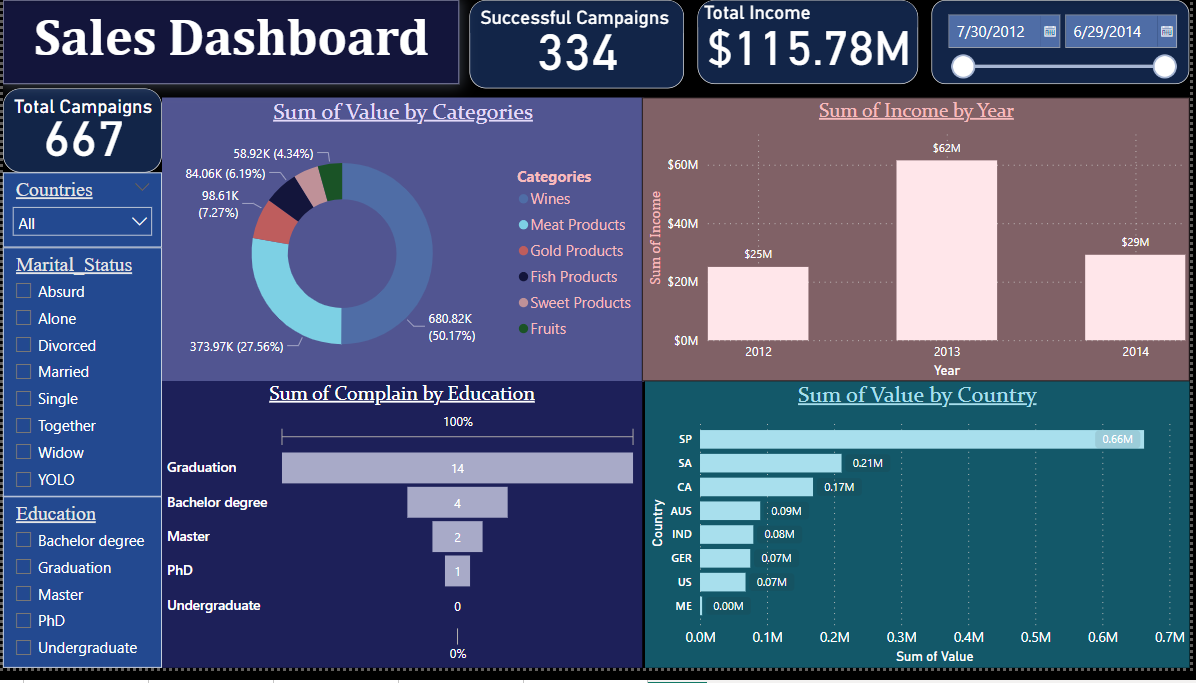

The dashboard page shown, as its layout file describes it:
{"tool":"powerbi","page":{"name":"Page 1","canvas":[1280,720],"ordinal":0},"visuals":[{"type":"barChart","fields":{"Y":["Append1.Value"],"Category":["marketing_customer_data_uncleaned.Country"]},"box":[692.5,411,587.3,309],"z":0},{"type":"slicer","fields":{"Values":["marketing_customer_data_uncleaned.CountryNames.Country"]},"box":[0,186.1,171.5,80.9],"z":1000},{"type":"slicer","fields":{"Values":["marketing_customer_data_uncleaned.Education"]},"box":[0,535.6,171.5,184.4],"z":2000},{"type":"slicer","fields":{"Values":["marketing_customer_data_uncleaned.Marital_Status"]},"box":[0,267,171.5,268.6],"z":3000},{"type":"donutChart","title":"Sum  of  Value  by  Categories","fields":{"Category":["Append1.Attribute"],"Y":["Append1.Value"]},"box":[171.7,105,520,306.7],"z":4000},{"type":"funnel","fields":{"Category":["marketing_customer_data_uncleaned.Education"],"Y":["marketing_customer_data_uncleaned.Complain"]},"box":[171.5,411,517.8,309],"z":5000},{"type":"columnChart","fields":{"Category":["marketing_customer_data_uncleaned.Dt_Customer.Variation.Date Hierarchy.Year"],"Y":["marketing_customer_data_uncleaned. Income "]},"box":[689.3,105.2,590.6,305.8],"z":6000},{"type":"slicer","fields":{"Values":["marketing_customer_data_uncleaned.Dt_Customer"]},"box":[987,0,292.9,90.6],"z":7000},{"type":"card","title":"Total Income","fields":{"Values":["marketing_customer_data_uncleaned. Income "]},"box":[231.4,0,237.8,90.6],"z":8000},{"type":"card","title":"Successful Campaigns","fields":{"Values":["marketing_customer_data_uncleaned.Successful Campaigns"]},"box":[0,0,231.4,95.5],"z":9000},{"type":"card","title":"Total Campaigns","fields":{"Values":["All_camp.Value"]},"box":[0,95.5,171.5,90.6],"z":10000},{"type":"textbox","box":[475.7,0,511.3,90.6],"z":11000}]}

Visuals, with their boxes in screenshot pixels (x1, y1, x2, y2), scaled from the page's 1280x720 canvas onto the 1196x683 screenshot:
barChart - Append1.Value x marketing_customer_data_uncleaned.Country: Rect(647, 390, 1195, 682)
slicer - marketing_customer_data_uncleaned.CountryNames.Country: Rect(0, 177, 160, 253)
slicer - marketing_customer_data_uncleaned.Education: Rect(0, 508, 160, 682)
slicer - marketing_customer_data_uncleaned.Marital_Status: Rect(0, 253, 160, 508)
"Sum  of  Value  by  Categories" donutChart: Rect(160, 100, 646, 391)
funnel - marketing_customer_data_uncleaned.Education x marketing_customer_data_uncleaned.Complain: Rect(160, 390, 644, 682)
columnChart - marketing_customer_data_uncleaned.Dt_Customer.Variation.Date Hierarchy.Year x marketing_customer_data_uncleaned. Income : Rect(644, 100, 1195, 390)
slicer - marketing_customer_data_uncleaned.Dt_Customer: Rect(922, 0, 1195, 86)
"Total Income" card: Rect(216, 0, 438, 86)
"Successful Campaigns" card: Rect(0, 0, 216, 91)
"Total Campaigns" card: Rect(0, 91, 160, 177)
textbox: Rect(444, 0, 922, 86)
